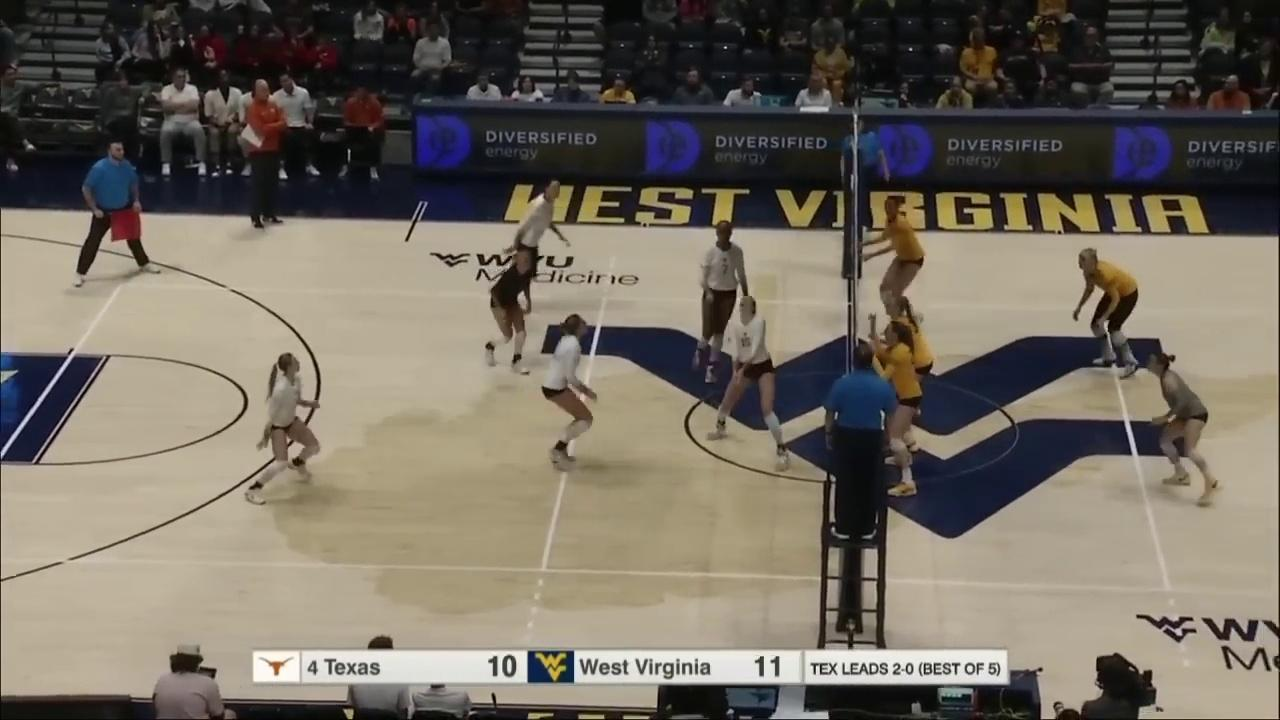player: (708, 296, 795, 473), (1147, 353, 1224, 508), (243, 355, 320, 508), (870, 319, 925, 496), (540, 316, 603, 467), (693, 220, 751, 384), (875, 296, 935, 451), (867, 197, 927, 347), (1073, 249, 1142, 376), (499, 180, 567, 305), (482, 250, 536, 373)
refree: (822, 347, 897, 542), (72, 140, 159, 286), (839, 119, 889, 233)
